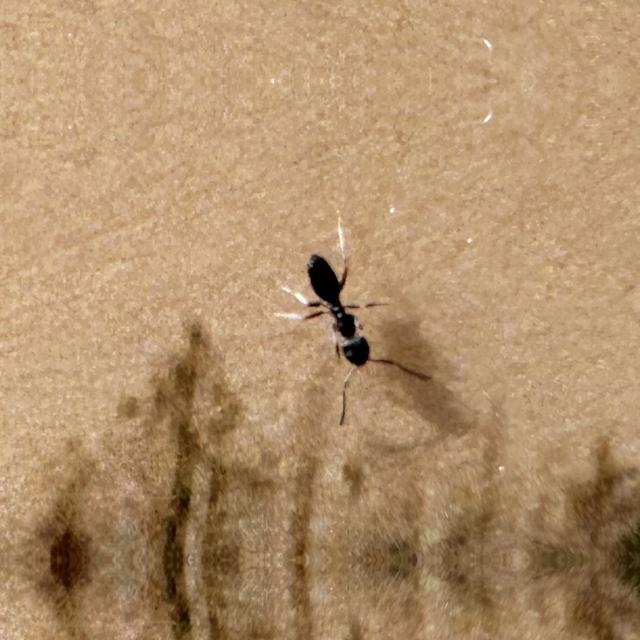Tapinoma: (264, 231, 430, 411)
